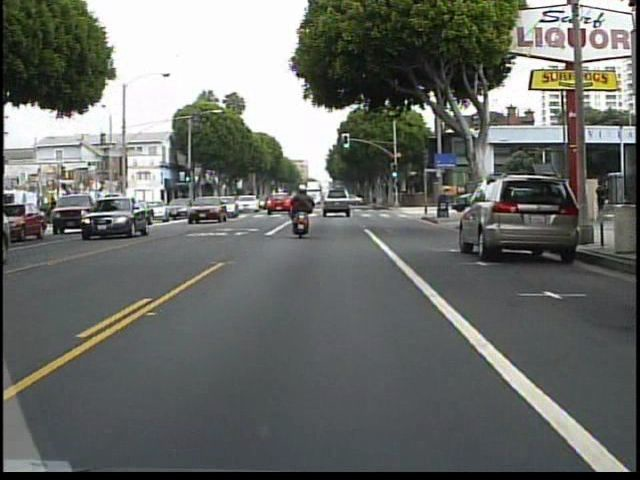person: (288, 183, 321, 238)
